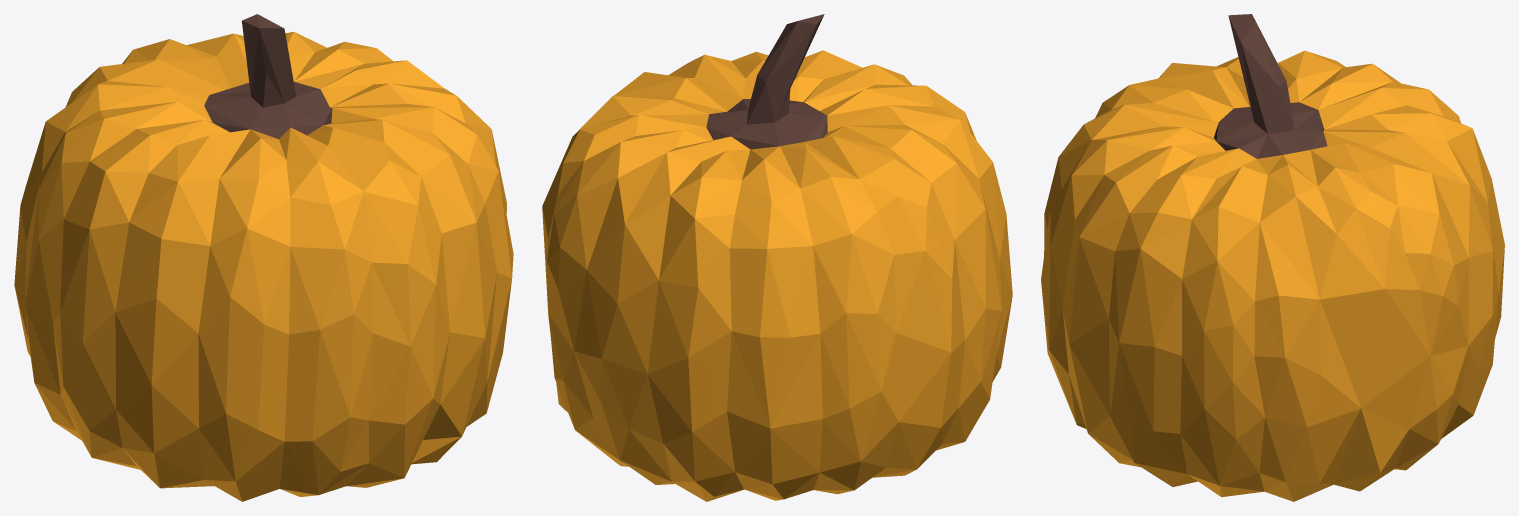
The model's file is fantasy_plant_026.fbx.
3 renders of one model, left to right at view 1: azimuth 30°, elevation 25°; view 2: azimuth 150°, elevation 25°; view 3: azimuth 270°, elevation 25°, orthographic. The views are drawn at different scales.
Visible parts, largest first — view 1: fantasy_plant.026; view 2: fantasy_plant.026; view 3: fantasy_plant.026.
Part boxes in pixels (bbox=[...]): fantasy_plant.026: bbox=[14, 14, 513, 501]; fantasy_plant.026: bbox=[542, 14, 1012, 501]; fantasy_plant.026: bbox=[1041, 14, 1504, 501].
Size of the model in its own units: 145 by 141 by 145.
1 material, 1 textured.
